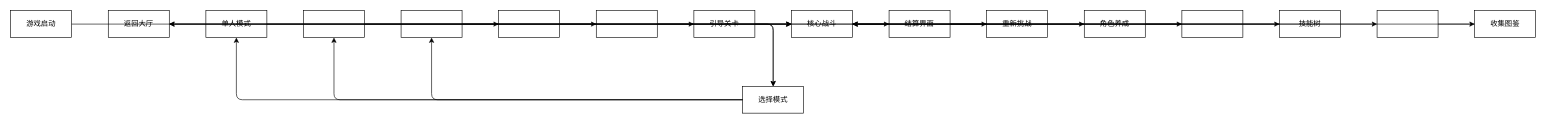
The diagram is 1546 pixels wide and 124 high, and some of its shapes have lost their labels. Here are the shapes that lost their labels. From the top down, the centre of each, then its label:
At point (333, 24): "多人模式".
At point (431, 24): "教学模式".
At point (529, 24): "关卡选择".
At point (626, 24): "匹配房间".
At point (1212, 24): "装备系统".
At point (1407, 24): "成就系统".
